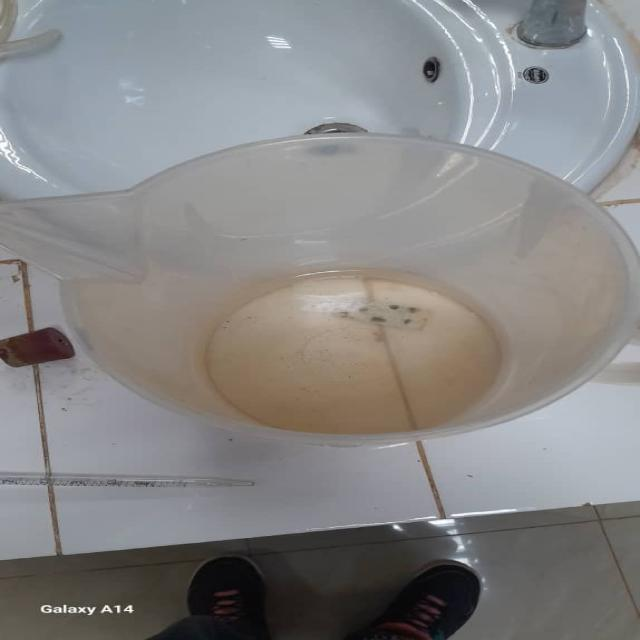Beakers: (18, 126, 629, 440)
